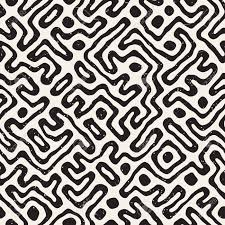maze: (1, 1, 223, 225)
